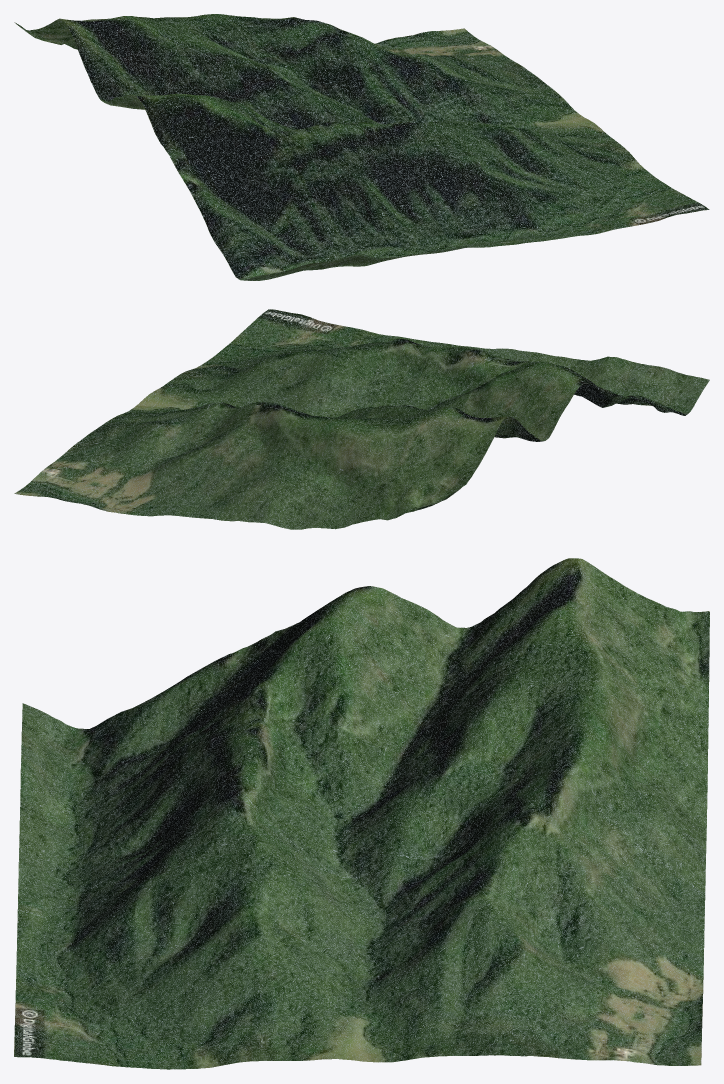
File: montanha3.dae
3 views of the same model, one above another, from view 1: azimuth 30°, elevation 25°; view 2: azimuth 150°, elevation 25°; view 3: azimuth 270°, elevation 25° (orthographic). The views are drawn at different scales.
Parts seen in each view (by area): view 1: SketchUp; view 2: SketchUp; view 3: SketchUp.
Part boxes in pixels (x1,y1,x2,y2): SketchUp: (14, 14, 709, 280); SketchUp: (14, 309, 709, 529); SketchUp: (14, 558, 709, 1069).
Size of the model in its own units: 79688 by 77497 by 26335.
2 materials, 1 textured.
